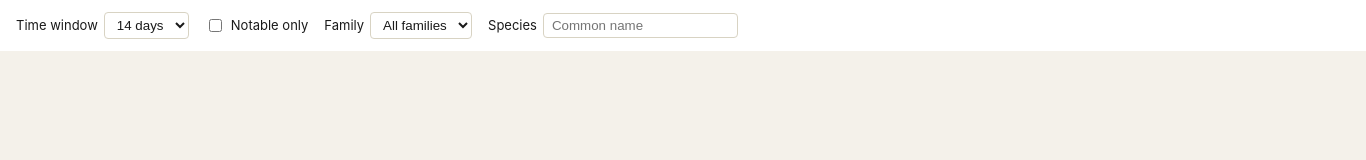
Test case: FiltersBar › clears the no-match hint when the user edits the field again
Type "Zzz" into the search field labelled "Species" at [640, 26], box [543,13,738,38]
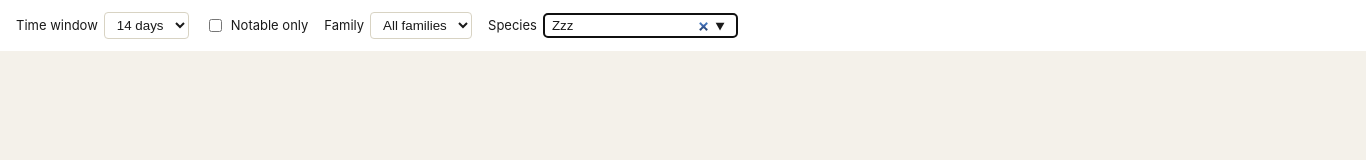
Press Enter
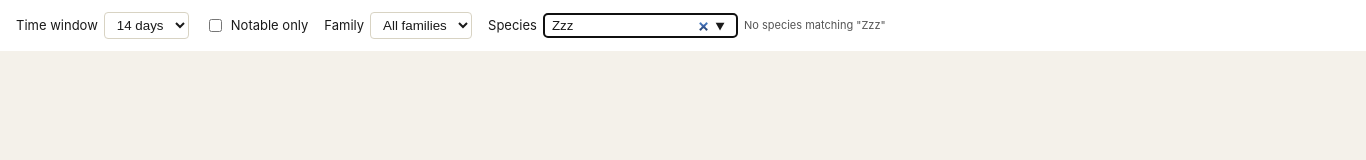
Result: the message "No species matching \"Zzz\"" is shown at [744,18,886,33]
Type "a" into the search field labelled "Species" at [640, 26], box [543,13,738,38]
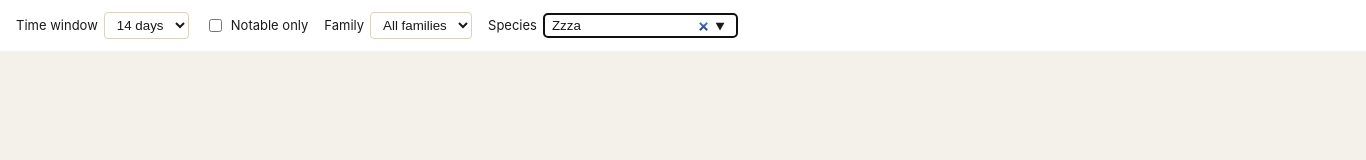
Result: the message "No species matching \"Zzz\"" is gone
